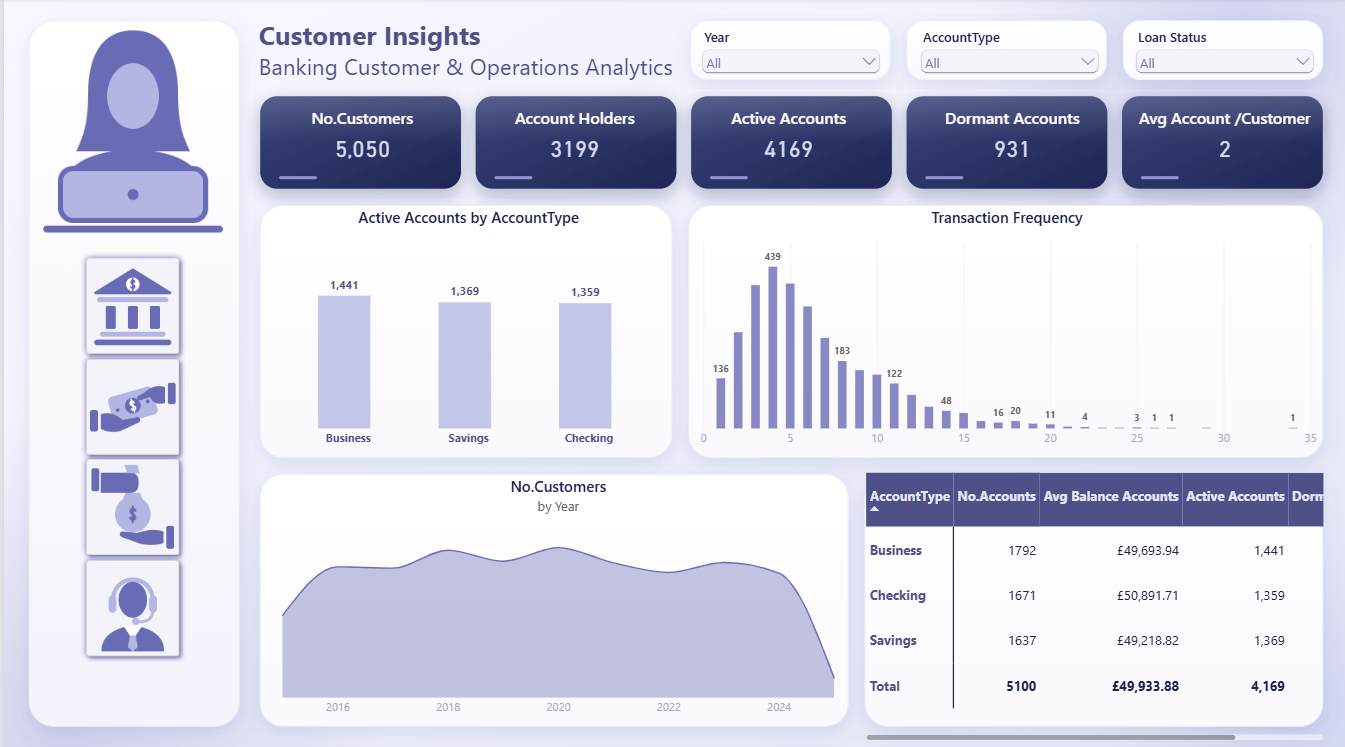

The page's visual inventory and layout, read from the dashboard file:
{"tool":"powerbi","page":{"name":"Customer Insights","canvas":[1920,1080],"ordinal":1},"visuals":[{"type":"advanceCardE03760C5AB684758B56AA29F9E6C257B","title":"No.Customers ","fields":{"mainMeasure":["Calculations Overview.No.Customers"]},"box":[368,144,288,96],"z":0},{"type":"advanceCardE03760C5AB684758B56AA29F9E6C257B","title":"Account Holders ","fields":{"mainMeasure":["Customer Claculations.Account Holders"]},"box":[672,144,288,96],"z":1000},{"type":"advanceCardE03760C5AB684758B56AA29F9E6C257B","title":"Active Accounts ","fields":{"mainMeasure":["Customer Claculations.Active Accounts"]},"box":[976,144,288,96],"z":2000},{"type":"advanceCardE03760C5AB684758B56AA29F9E6C257B","title":"Dormant Accounts ","fields":{"mainMeasure":["Customer Claculations.Dormant Accounts"]},"box":[1296,144,288,96],"z":3000},{"type":"advanceCardE03760C5AB684758B56AA29F9E6C257B","title":"Avg Account /Customer ","fields":{"mainMeasure":["Customer Claculations.Avg Customers with Accounts"]},"box":[1600,144,288,96],"z":4000},{"type":"clusteredColumnChart","fields":{"Category":["Accounts.AccountType"],"Y":["Customer Claculations.Active Accounts"]},"box":[368,288,592,368],"z":5000},{"type":"clusteredColumnChart","title":"Transaction Frequency ","fields":{"Category":["Customers.Number of Transactions"],"Y":["Calculations Overview.No.Customers"]},"box":[976,288,912,368],"z":6000},{"type":"lineChart","fields":{"Category":["DimDate.Year","DimDate.Quarter","DimDate.MonthName","DimDate.Day"],"Y":["Calculations Overview.No.Customers"]},"box":[368,672,848,368],"z":7000},{"type":"pivotTable","fields":{"Rows":["Accounts.AccountType"],"Values":["Customer Claculations.No.Accounts","Customer Claculations.Avg Balance Accounts","Customer Claculations.Active Accounts","Customer Claculations.Dormant Accounts"]},"box":[1219,667,677,403],"z":8000},{"type":"actionButton","box":[96,352,175,175],"z":9000},{"type":"actionButton","box":[96,496,175,175],"z":10000},{"type":"actionButton","box":[96,640,175,175],"z":11000},{"type":"actionButton","box":[96,784,175,175],"z":12000},{"type":"image","box":[0,16,368,336],"z":13000},{"type":"slicer","fields":{"Values":["Accounts.AccountType"]},"box":[1292,32,288,96],"z":14000},{"type":"slicer","fields":{"Values":["Loans.Loan Status"]},"box":[1600,32,288,96],"z":15000},{"type":"slicer","fields":{"Values":["DimDate.Year"]},"box":[980,32,288,96],"z":16000},{"type":"textbox","box":[352,16,864,112],"z":17000}]}

Visuals, with their boxes in screenshot pixels (x1, y1, x2, y2), scaled from the page's 1920x1080 canvas onto the 1345x747 screenshot:
"No.Customers " advanceCardE03760C5AB684758B56AA29F9E6C257B: 258 100 460 166
"Account Holders " advanceCardE03760C5AB684758B56AA29F9E6C257B: 471 100 672 166
"Active Accounts " advanceCardE03760C5AB684758B56AA29F9E6C257B: 684 100 885 166
"Dormant Accounts " advanceCardE03760C5AB684758B56AA29F9E6C257B: 908 100 1110 166
"Avg Account /Customer " advanceCardE03760C5AB684758B56AA29F9E6C257B: 1121 100 1323 166
clusteredColumnChart - Accounts.AccountType x Customer Claculations.Active Accounts: 258 199 672 454
"Transaction Frequency " clusteredColumnChart: 684 199 1323 454
lineChart - DimDate.Year x DimDate.Quarter: 258 465 852 719
pivotTable - Accounts.AccountType x Customer Claculations.No.Accounts: 854 461 1328 740
actionButton: 67 243 190 365
actionButton: 67 343 190 464
actionButton: 67 443 190 564
actionButton: 67 542 190 663
image: 0 11 258 243
slicer - Accounts.AccountType: 905 22 1107 89
slicer - Loans.Loan Status: 1121 22 1323 89
slicer - DimDate.Year: 687 22 888 89
textbox: 247 11 852 89
